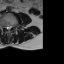CCS_normal: (8, 24, 9, 32)
LFS_stenosis: (12, 23, 14, 28)
LLS_normal: (9, 24, 11, 30)
RFS_stenosis: (4, 24, 6, 29)
RLS_normal: (6, 24, 8, 30)
